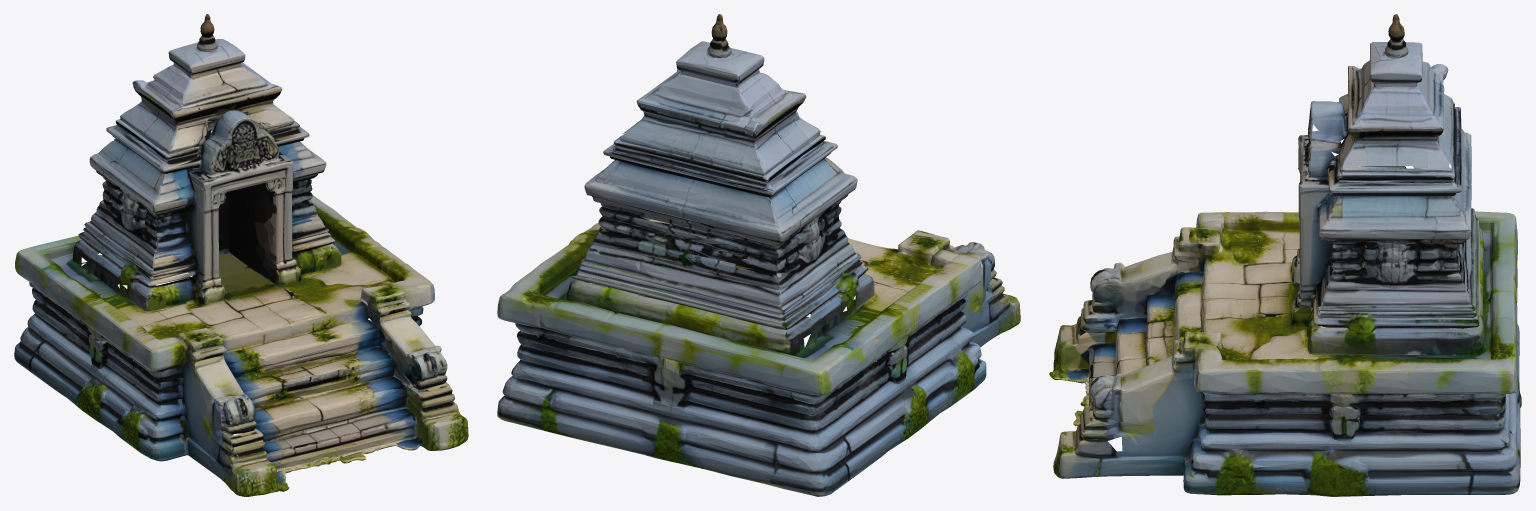
File: kadamba-carved-stone-entrance-steps-optimized.glb
3 views of the same model, side by side, from view 1: azimuth 30°, elevation 25°; view 2: azimuth 150°, elevation 25°; view 3: azimuth 270°, elevation 25° (orthographic). The views are drawn at different scales.
Parts seen in each view (by area): view 1: fd8e0156-0fc8-4d23-9691-afe85a4f1e40_texturing.obj; view 2: fd8e0156-0fc8-4d23-9691-afe85a4f1e40_texturing.obj; view 3: fd8e0156-0fc8-4d23-9691-afe85a4f1e40_texturing.obj.
Boxes of the visible parts, bbox=[...] form: fd8e0156-0fc8-4d23-9691-afe85a4f1e40_texturing.obj: bbox=[14, 14, 468, 496]; fd8e0156-0fc8-4d23-9691-afe85a4f1e40_texturing.obj: bbox=[497, 14, 1020, 496]; fd8e0156-0fc8-4d23-9691-afe85a4f1e40_texturing.obj: bbox=[1049, 14, 1521, 496].
Size of the model in its own units: 2.06 by 2.36 by 2.5.
Materials: 1 (1 with a texture image).
